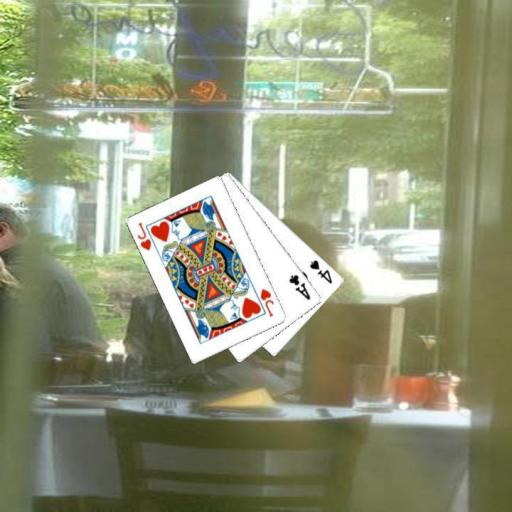card-corner: (306, 257, 334, 285), (286, 272, 312, 302), (134, 219, 153, 252), (257, 286, 276, 318)
